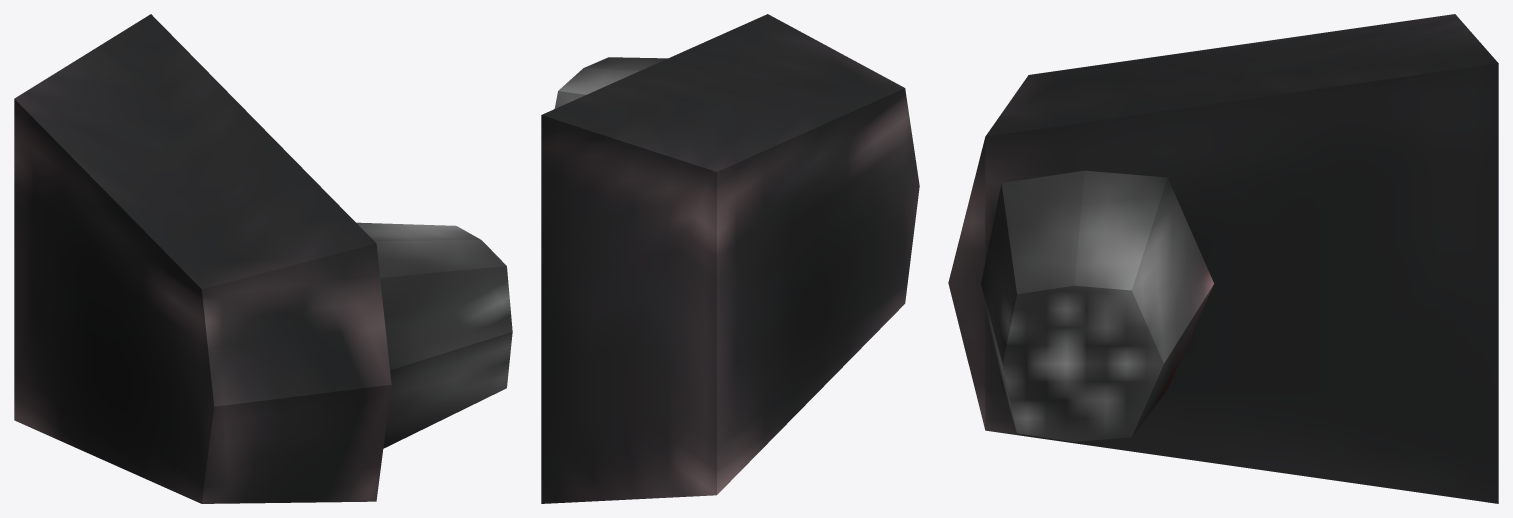
File: drill_battery.FBX
3 renders of one model, left to right at view 1: azimuth 30°, elevation 25°; view 2: azimuth 150°, elevation 25°; view 3: azimuth 270°, elevation 25°, orthographic. The views are drawn at different scales.
Parts seen in each view (by area): view 1: InventoryItem_DrillBattery; view 2: InventoryItem_DrillBattery; view 3: InventoryItem_DrillBattery.
Boxes of the visible parts, bbox=[...] form: InventoryItem_DrillBattery: bbox=[14, 14, 512, 503]; InventoryItem_DrillBattery: bbox=[541, 14, 919, 503]; InventoryItem_DrillBattery: bbox=[948, 14, 1498, 503].
Size of the model in its own units: 65.89 by 91.62 by 80.95.
Materials: 1 (1 with a texture image).
